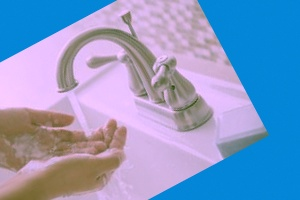washing hand: (0, 15, 187, 199)
